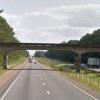Bridge: (2, 33, 88, 68)
